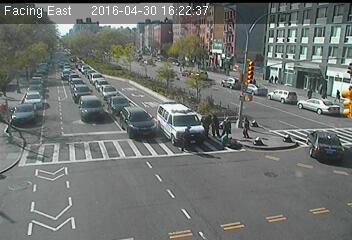neg: (8, 159, 44, 206), (259, 177, 288, 215), (146, 168, 174, 205), (51, 65, 76, 98), (139, 50, 164, 83), (39, 115, 64, 147), (207, 186, 229, 214), (189, 49, 210, 78), (253, 49, 274, 77), (97, 155, 118, 183), (87, 29, 108, 56), (296, 32, 315, 58), (90, 96, 108, 121), (281, 122, 298, 145), (307, 187, 324, 210), (292, 86, 307, 107)
pos: (176, 120, 200, 152), (220, 113, 239, 138), (239, 113, 258, 138), (203, 112, 221, 137), (197, 112, 214, 134)
